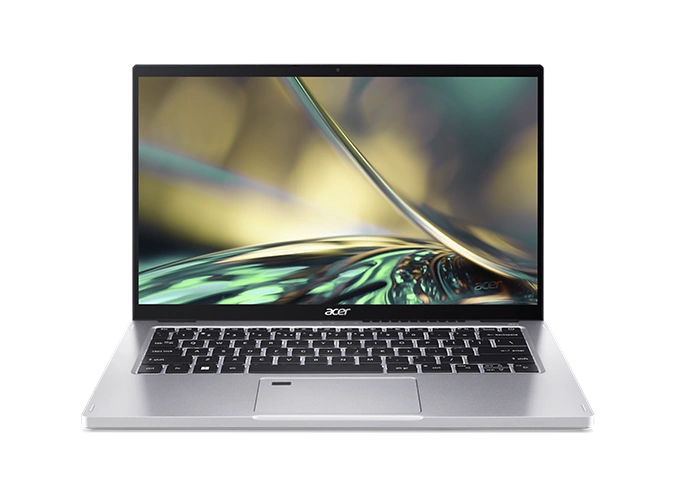laptop: (94, 52, 599, 439)
